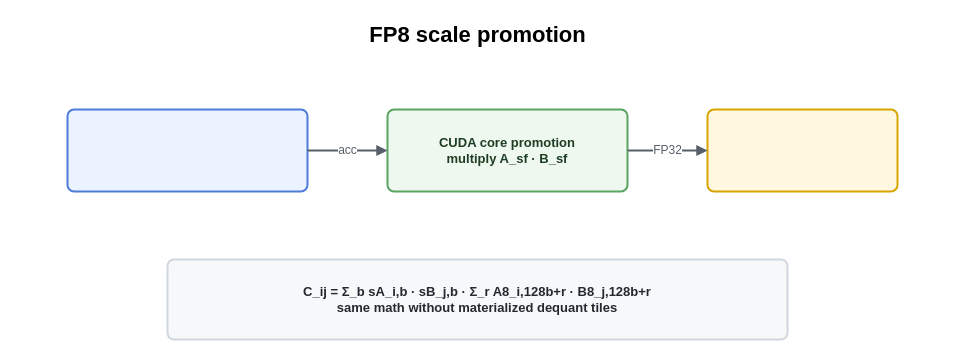
The diagram is 954 pixels wide and 357 high, and some of its shapes have lost their labels. Here are the shapes that lost their labels. From the top down, the centre of each, then its label:
(x=187, y=150): FP8 Tensor Core raw partial sum per K-block
(x=802, y=150): final C BF16 / FP32 output
